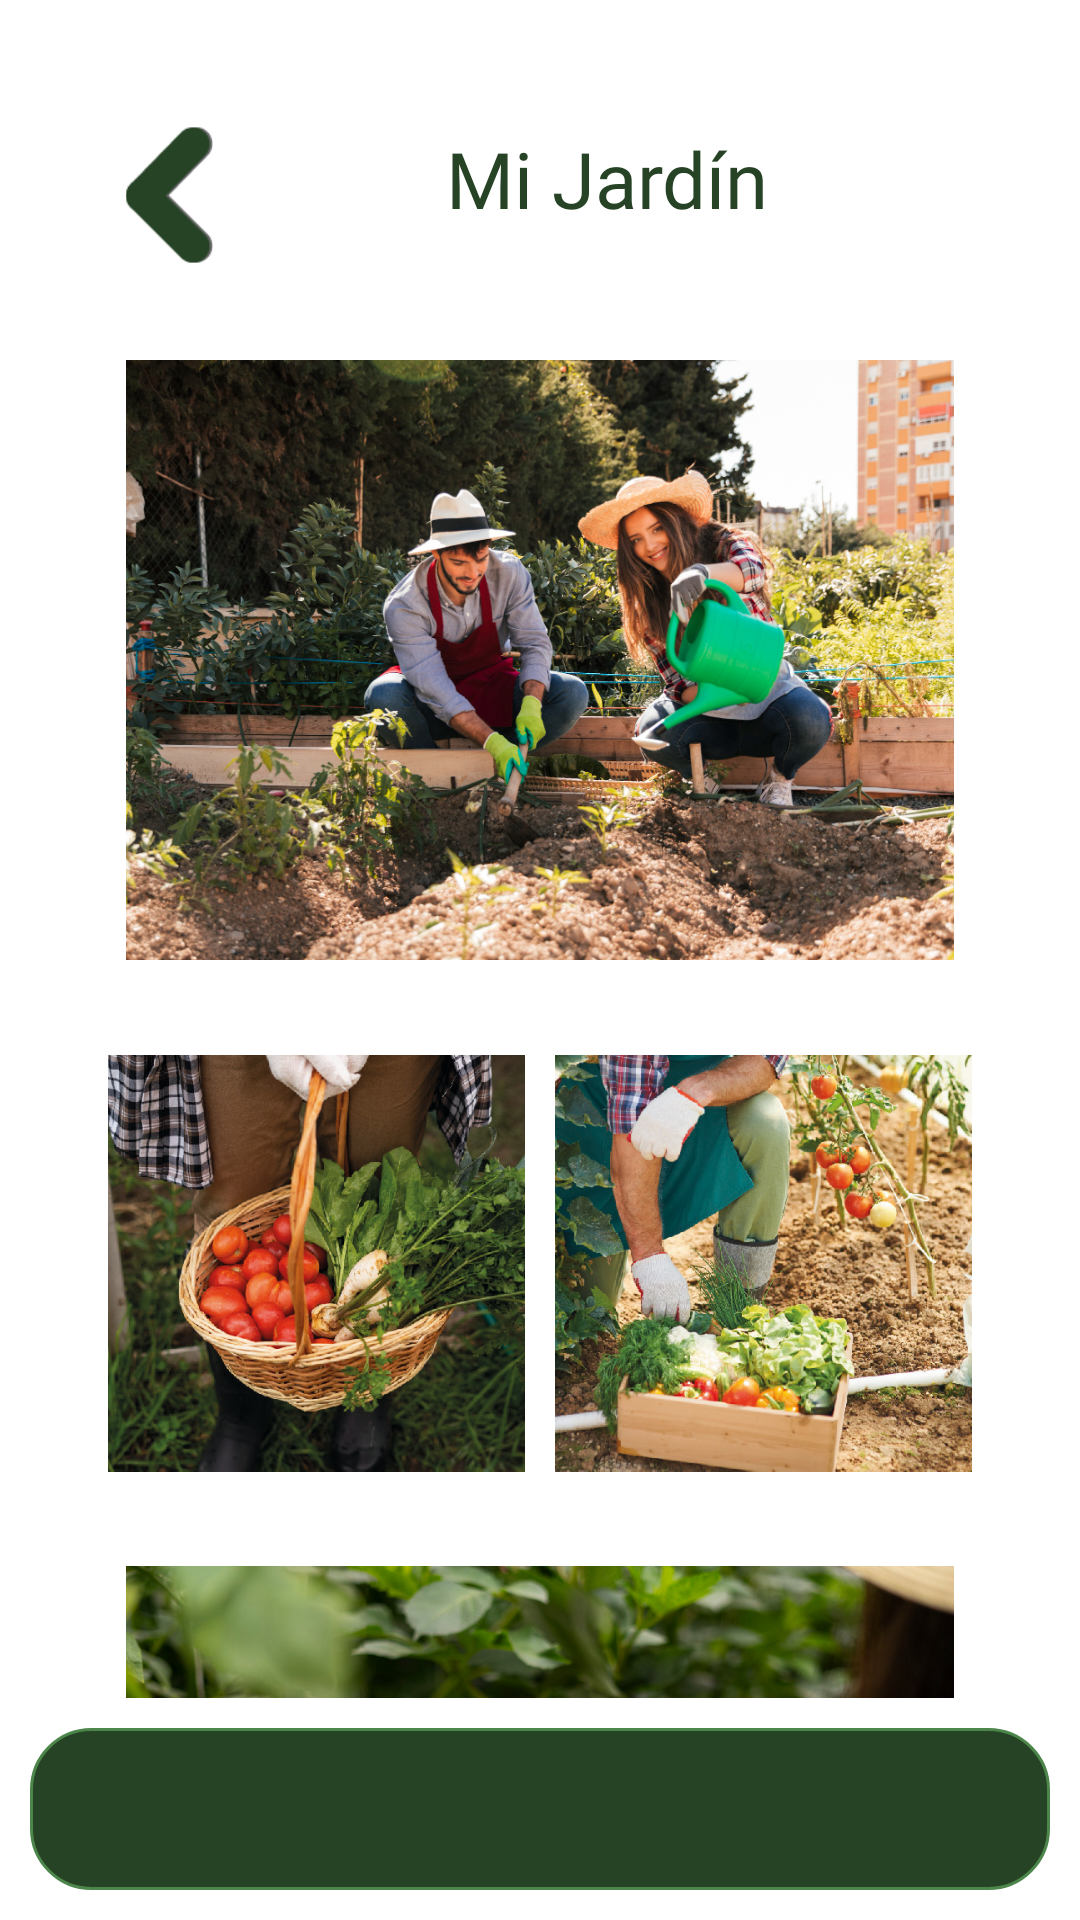

Screen size 1080×1920. Icon name, then its box in pixels as bbox(x1, y1, x2, y2):
back: bbox(126, 127, 213, 263)
